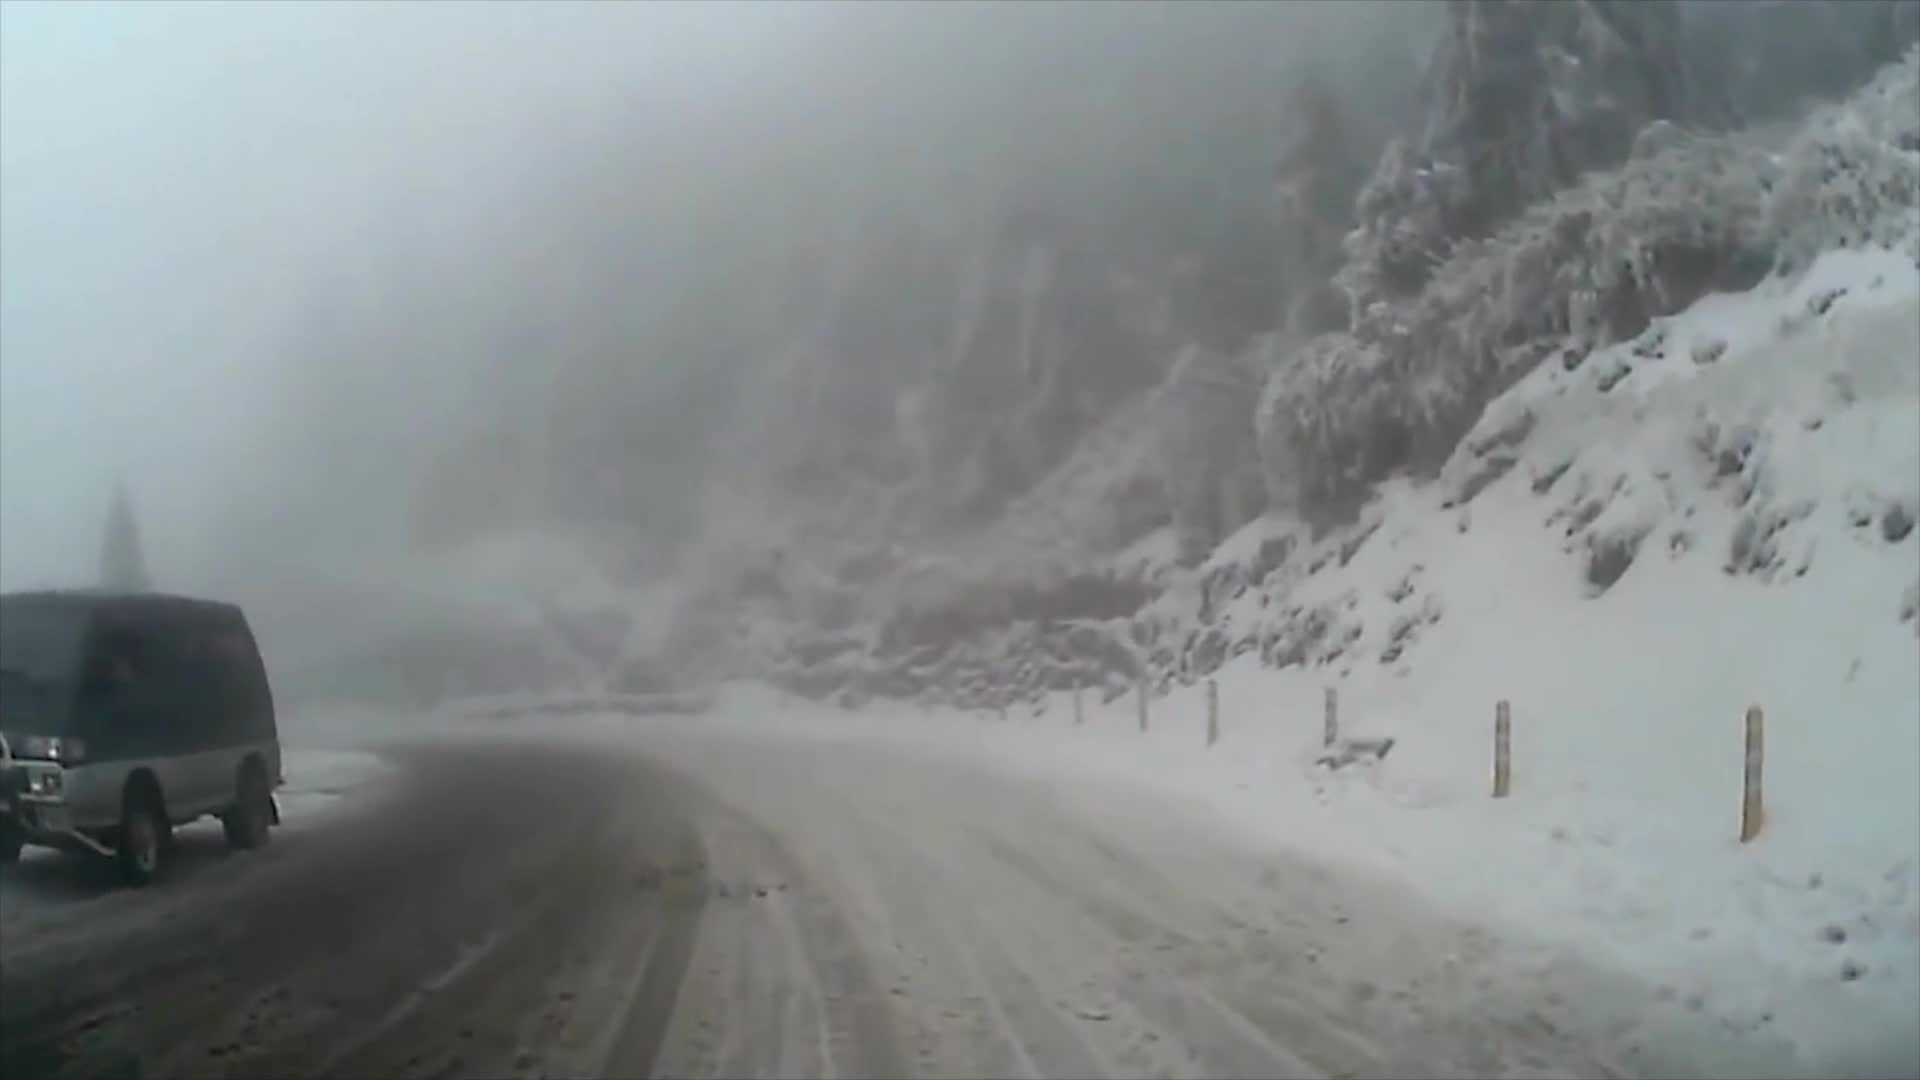vehicle: (0, 589, 282, 881)
